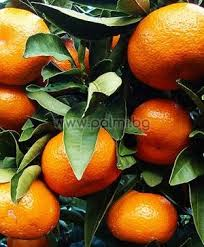orange: (126, 8, 204, 90), (42, 126, 125, 196), (123, 97, 196, 171), (104, 187, 182, 242), (2, 6, 51, 87), (1, 176, 62, 241), (3, 79, 40, 132)
